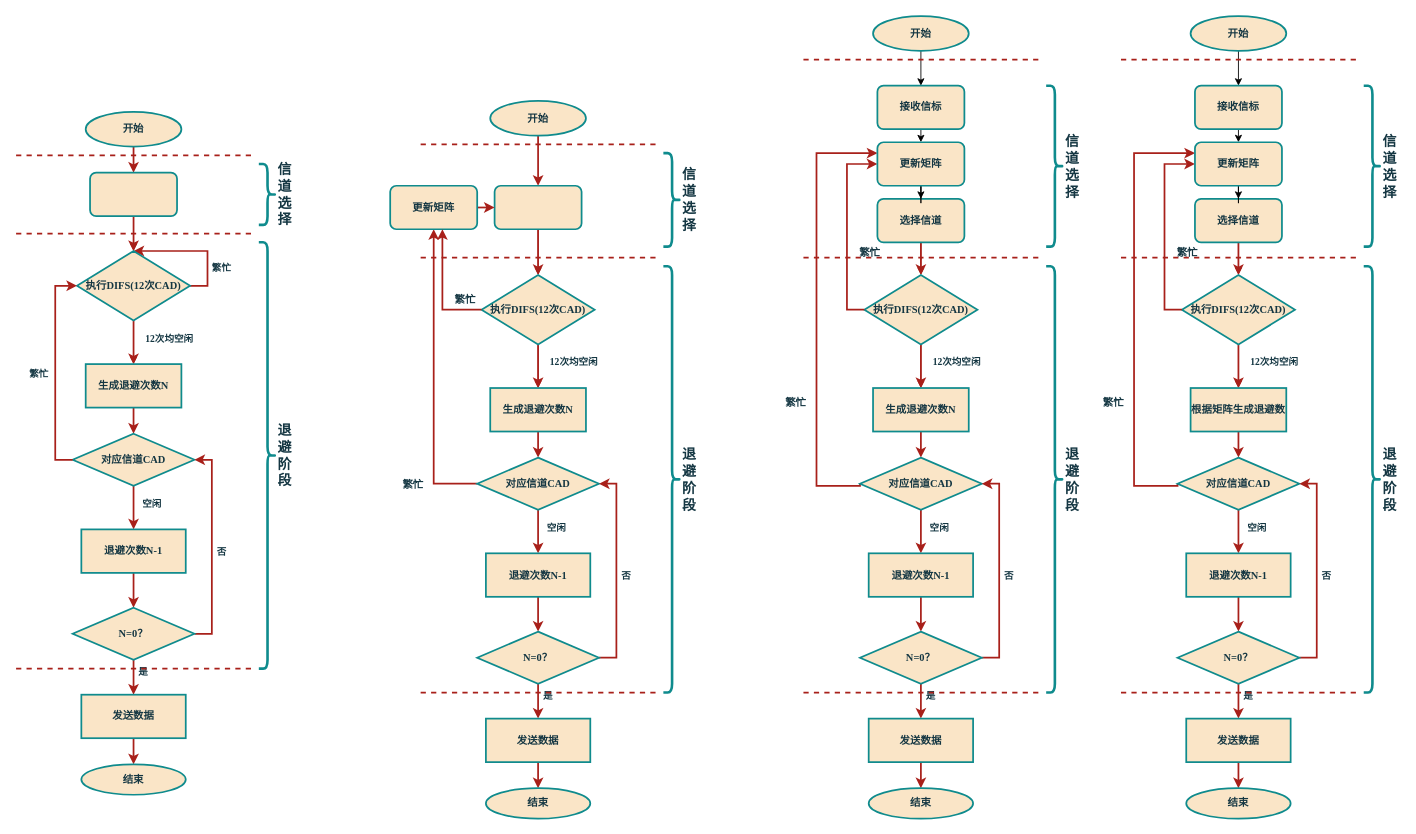
The diagram is 1416 pixels wide and 834 high, and some of its shapes have lost their labels. Here are the shapes that lost their labels. From the top down, the box of each, then its label:
(89, 171, 177, 217): 随机选择信道
(493, 184, 582, 230): 根据矩阵选择信道
